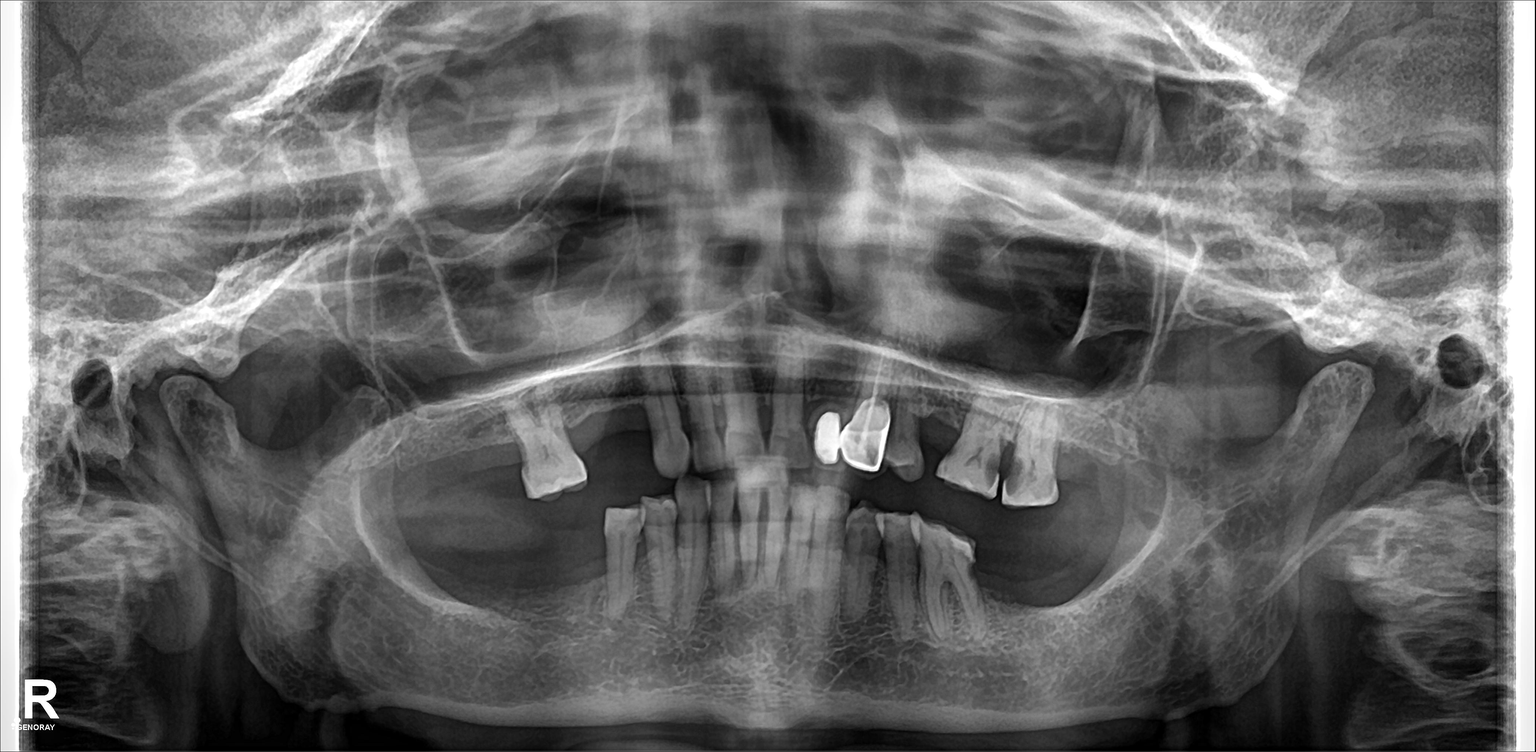Dental Caries: (980, 443, 1029, 486)
Endodontically Treated Tooth: (847, 365, 888, 468)
Impacted Third Molar: (10, 296, 11, 325)
Missing Tooth: (991, 538, 1032, 623), (1097, 538, 1140, 612), (1102, 419, 1135, 514), (417, 413, 457, 489), (568, 398, 605, 480), (1052, 426, 1091, 503), (469, 413, 505, 495), (609, 395, 642, 484), (415, 532, 451, 609), (1045, 545, 1083, 617), (458, 545, 499, 611), (384, 415, 417, 496), (512, 538, 545, 617), (566, 538, 594, 631), (924, 411, 949, 481)
